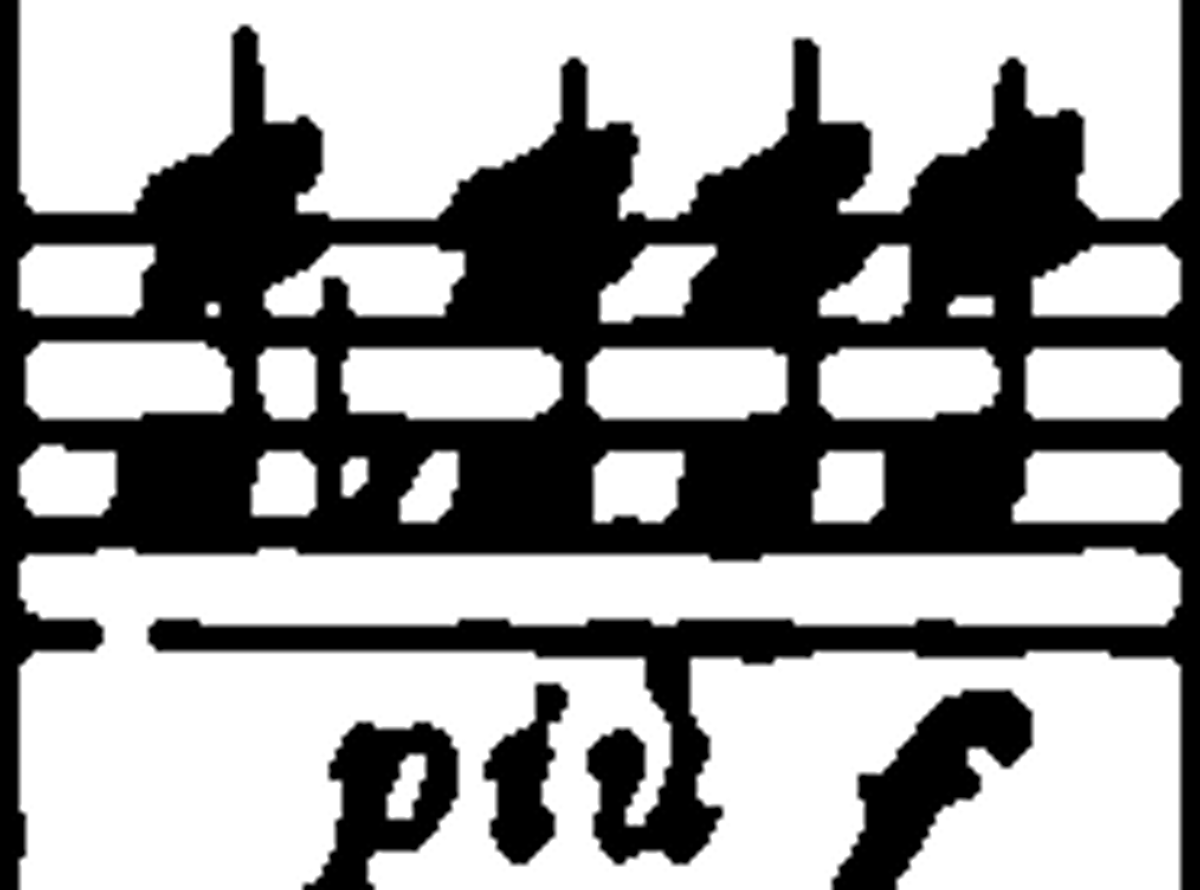beam: (910, 691, 1023, 747), (134, 539, 258, 553)
noteheadBlackInSpace: (844, 857, 907, 886), (415, 791, 453, 837), (414, 785, 450, 822), (343, 764, 398, 785), (598, 789, 631, 822), (596, 794, 628, 828), (868, 858, 908, 884), (989, 344, 1027, 368), (425, 765, 455, 794), (598, 788, 631, 812), (789, 348, 817, 376), (595, 804, 624, 831), (342, 723, 375, 746), (880, 858, 908, 885), (0, 382, 23, 413), (663, 775, 695, 796), (311, 347, 347, 365), (0, 375, 23, 403), (0, 570, 18, 600), (0, 561, 18, 588), (0, 1, 18, 27), (0, 270, 17, 297), (0, 266, 18, 291), (0, 671, 18, 696), (0, 677, 17, 702), (0, 781, 17, 805), (0, 159, 17, 182), (0, 153, 17, 176), (0, 138, 17, 161), (0, 753, 17, 776), (0, 760, 17, 783), (0, 145, 17, 168), (0, 745, 17, 768), (0, 768, 17, 791), (0, 131, 17, 154), (0, 738, 17, 761), (0, 123, 17, 146), (0, 165, 17, 187), (0, 775, 17, 797), (0, 0, 18, 19)
restHBar: (315, 407, 1200, 460), (225, 615, 1125, 662), (195, 205, 1095, 248), (315, 514, 1200, 557), (195, 311, 1095, 352), (436, 203, 1200, 249), (11, 310, 824, 350), (529, 410, 1198, 457), (1, 210, 789, 248), (439, 312, 1191, 351), (3, 505, 583, 553), (697, 204, 1195, 251)
